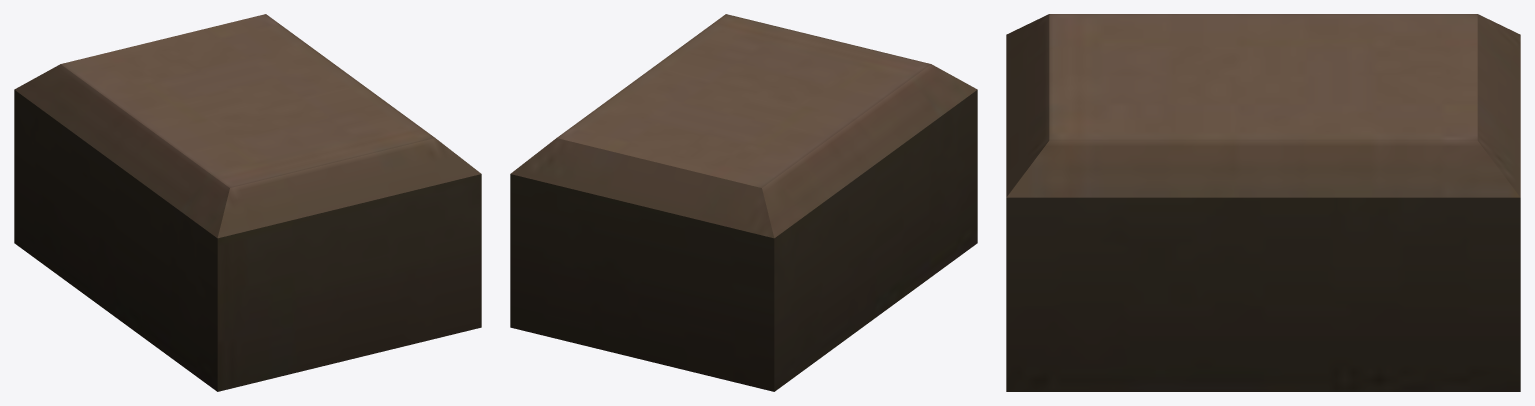
File: offshore-pump.glb
The picture shows the model from 3 angles, left to right: view 1: azimuth 30°, elevation 25°; view 2: azimuth 150°, elevation 25°; view 3: azimuth 270°, elevation 25°; orthographic projection. The views are drawn at different scales.
Parts seen in each view (by area): view 1: offshore-pump; view 2: offshore-pump; view 3: offshore-pump.
Part boxes in pixels (left/top/right/bottom): offshore-pump: left=14, top=14, right=481, bottom=391; offshore-pump: left=510, top=14, right=977, bottom=391; offshore-pump: left=1006, top=14, right=1520, bottom=391.
Bounding box in the file's own units: 0.18 × 0.12 × 0.24.
1 material, 1 textured.
